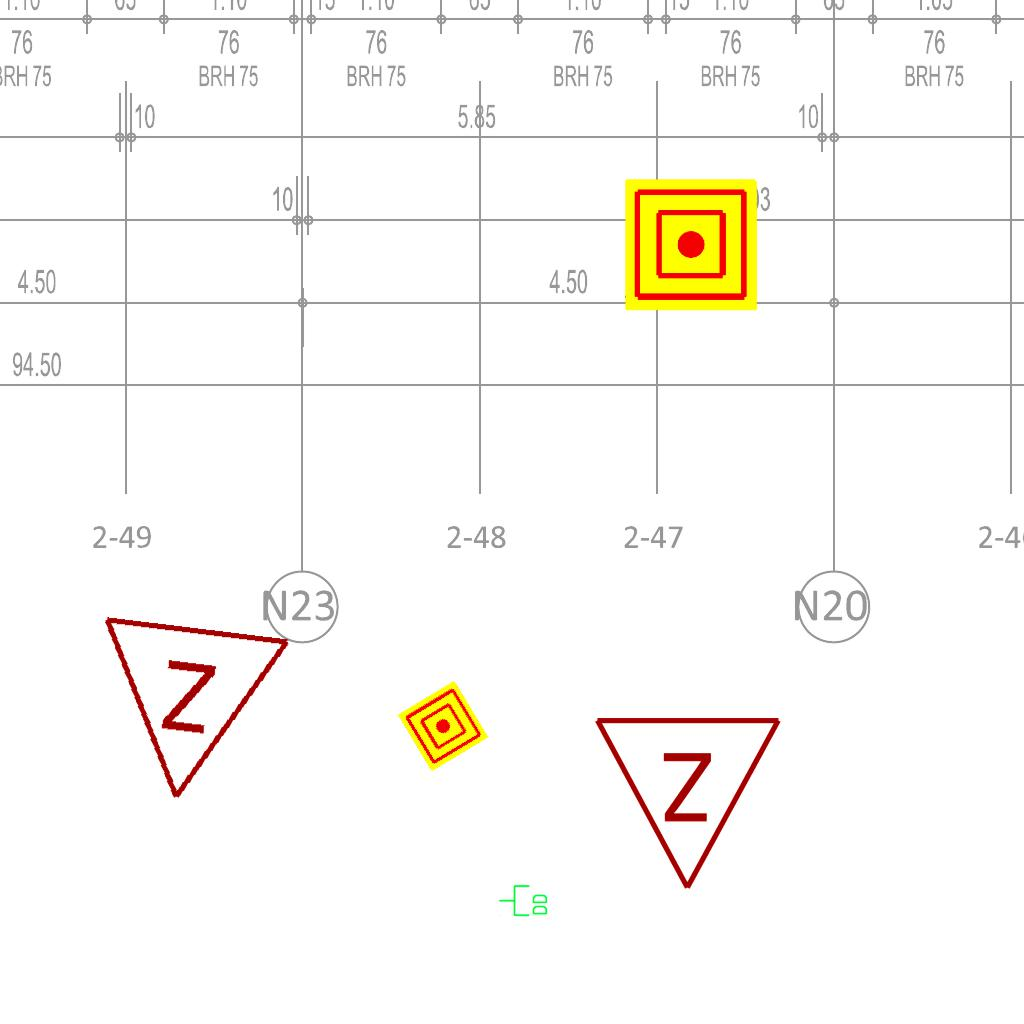Datenanschluss_zweifach: (498, 884, 549, 918)
NAM-Nichtautomatischer_Melder: (625, 179, 757, 311), (397, 680, 489, 772)
Zimmersignalleuchte: (79, 601, 299, 825), (592, 703, 788, 903)
